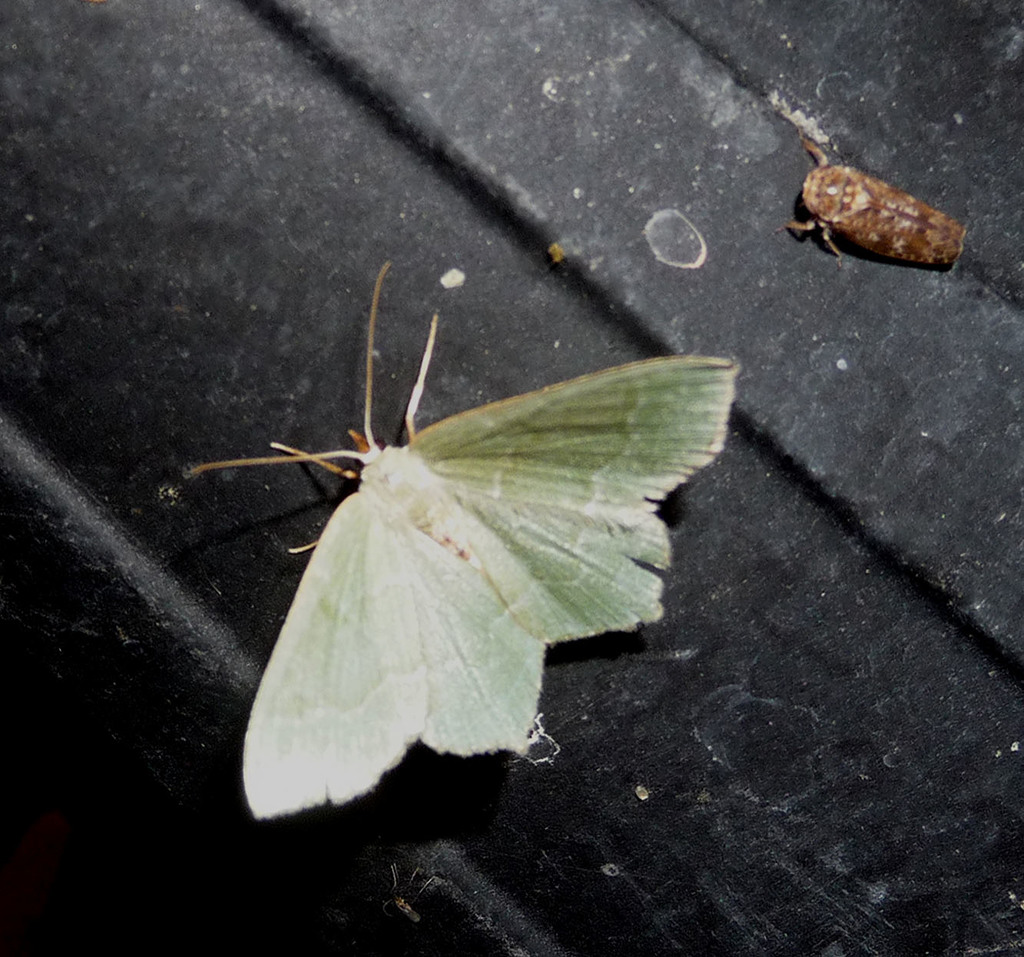Butterfly: (232, 319, 744, 825)
